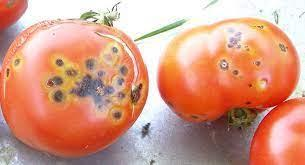tomato bacterial spot: (1, 20, 151, 160), (158, 18, 302, 125)
